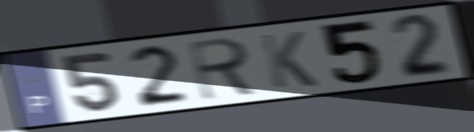2: (388, 12, 454, 83), (126, 43, 195, 110)
5: (316, 17, 386, 86), (57, 50, 122, 114)
K: (257, 29, 321, 91)
R: (186, 35, 263, 103)
